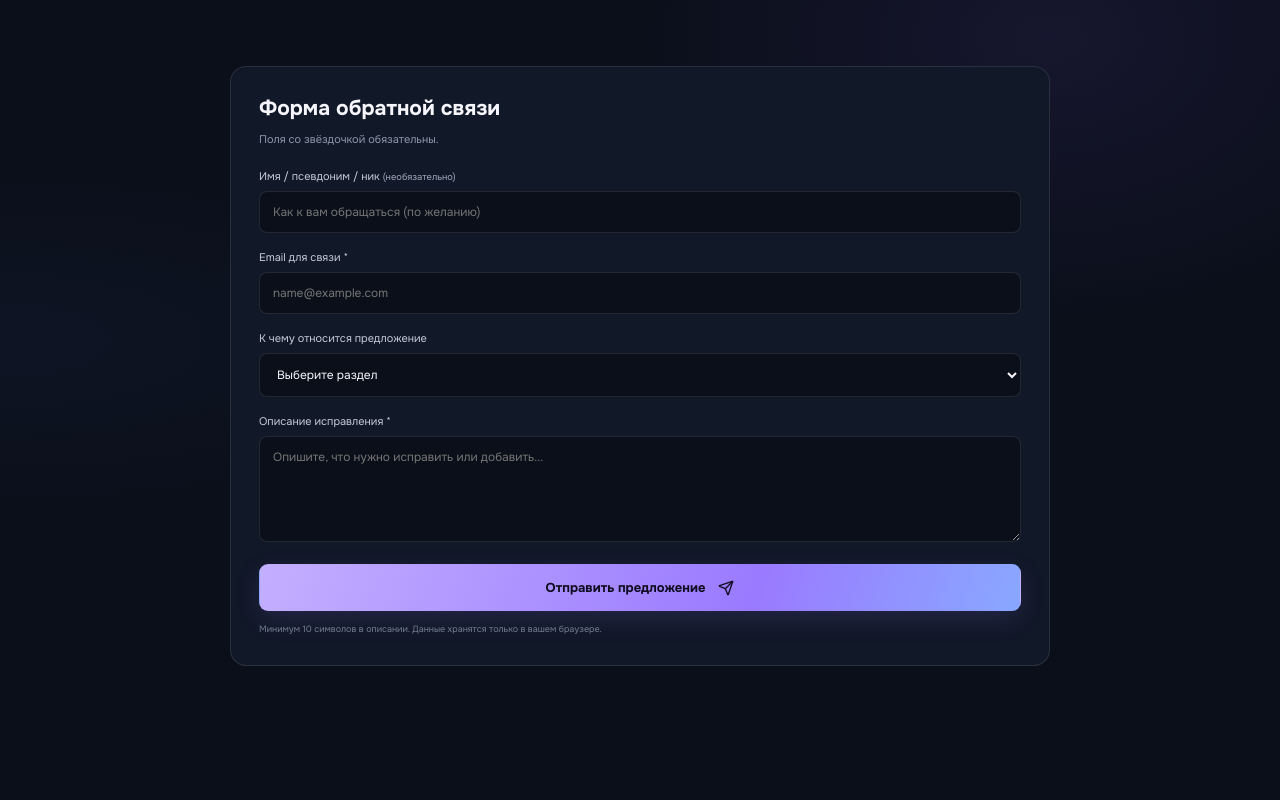
CorrectionsPage › shows validation errors and does not submit invalid data
Click the button "Отправить предложение" at (640, 588), box [259,564,1021,611]
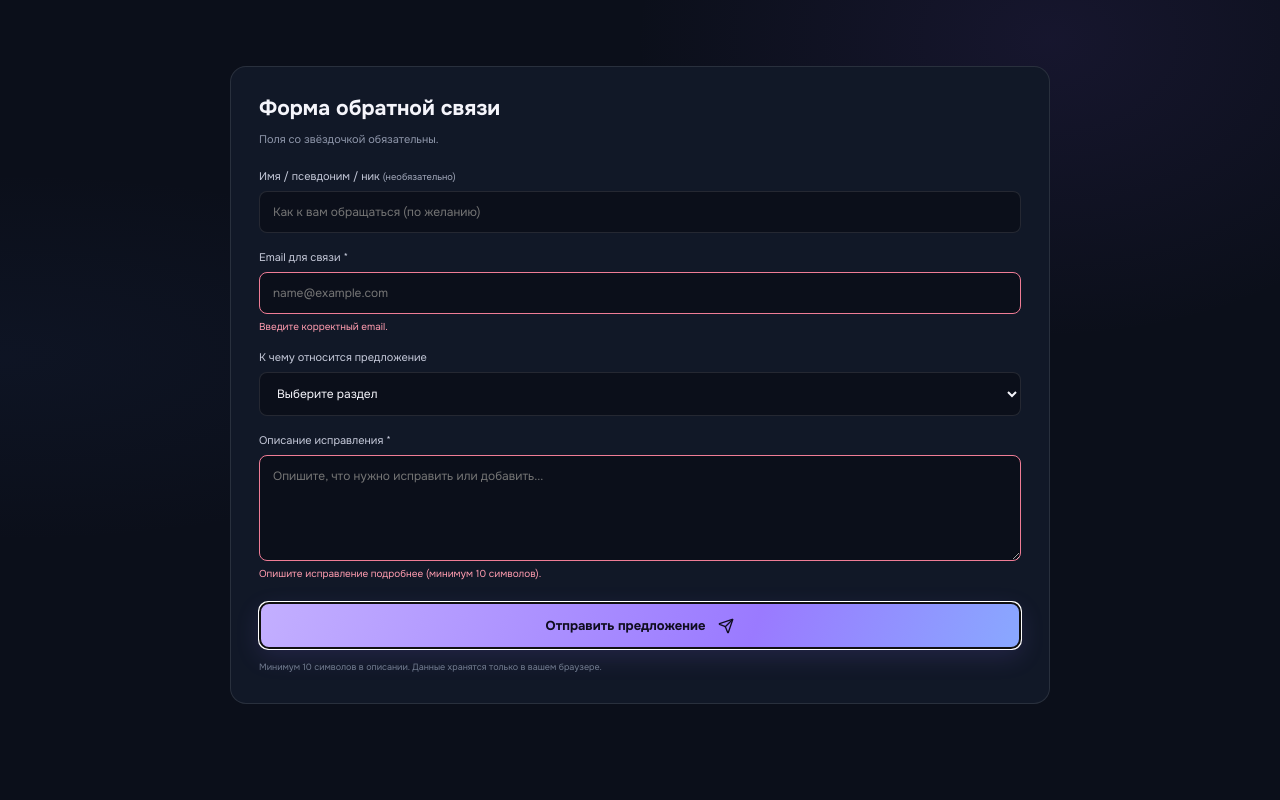
Expected: the text "Введите корректный email." is shown, [259,320,388,333]
Expected: the text "Опишите исправление подробнее (минимум 10 символов)." is shown, [259,567,541,580]
